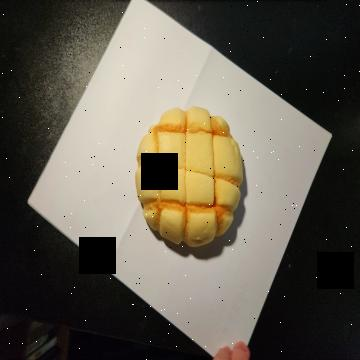melon_bread: (133, 106, 243, 252)
